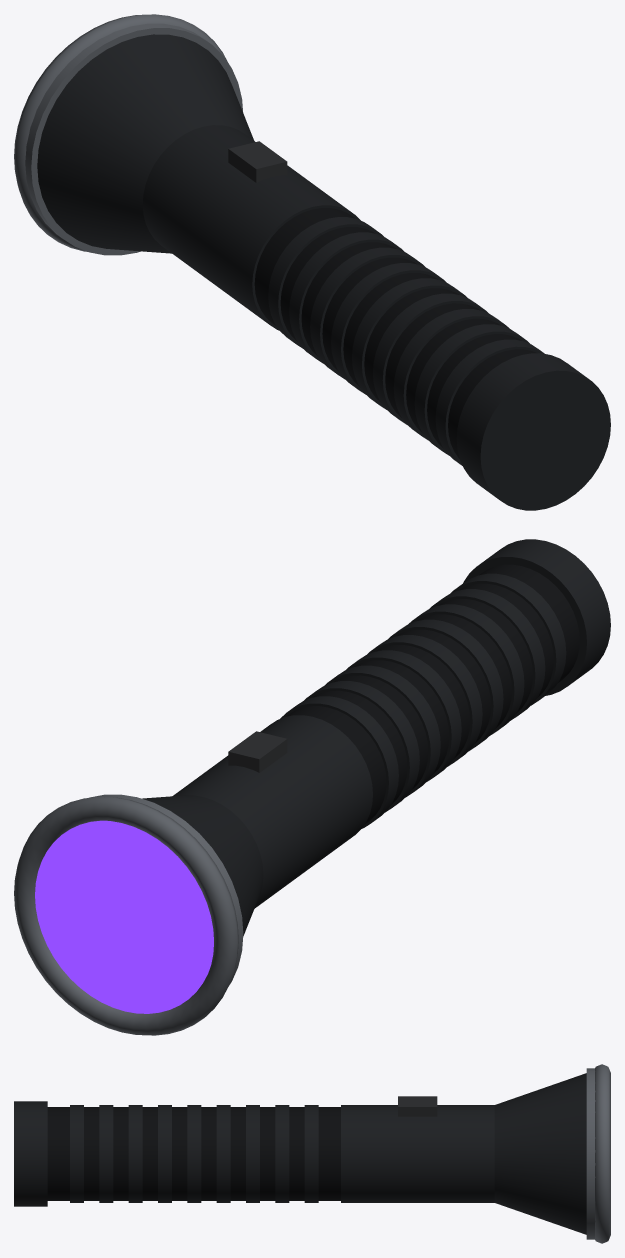
Rendered from flashlight.glb.
The picture shows the model from 3 angles, top to bottom: view 1: azimuth 30°, elevation 25°; view 2: azimuth 150°, elevation 25°; view 3: azimuth 270°, elevation 25°; orthographic projection. The views are drawn at different scales.
Visible parts, largest first — view 1: Flashlight_Head, Flashlight_TailCap, Flashlight_Body, Flashlight_Grip, Flashlight_Bezel, Flashlight_BezelRim, Flashlight_Knurl_6, Flashlight_Knurl_7, Flashlight_Knurl_1, Flashlight_Knurl_3, Flashlight_Knurl_4, Flashlight_Knurl_8 (+4 smaller); view 2: Flashlight_Light_lens, Flashlight_Body, Flashlight_Grip, Flashlight_BezelRim, Flashlight_TailCap, Flashlight_Head, Flashlight_Knurl_8, Flashlight_Knurl_3, Flashlight_Knurl_2, Flashlight_Knurl_5, Flashlight_Knurl_0, Flashlight_Knurl_4 (+5 smaller); view 3: Flashlight_Grip, Flashlight_Body, Flashlight_Head, Flashlight_TailCap, Flashlight_BezelRim, Flashlight_Bezel, Flashlight_Knurl_1, Flashlight_Knurl_2, Flashlight_Knurl_4, Flashlight_Knurl_5, Flashlight_Knurl_7, Flashlight_Knurl_8 (+4 smaller).
Part boxes in pixels (x1,y1,x2,y2): Flashlight_Head: (37,34,254,253); Flashlight_TailCap: (456,353,610,510); Flashlight_Body: (142,125,360,330); Flashlight_Grip: (254,208,537,458); Flashlight_Bezel: (25,23,242,255); Flashlight_BezelRim: (14,14,228,251); Flashlight_Knurl_6: (310,247,425,379); Flashlight_Knurl_7: (289,232,404,363); Flashlight_Knurl_1: (414,324,529,455); Flashlight_Knurl_3: (373,293,488,424); Flashlight_Knurl_4: (352,278,467,409); Flashlight_Knurl_8: (268,217,383,348); Flashlight_Light_lens: (35,820,213,1013); Flashlight_Body: (172,715,372,908); Flashlight_Grip: (286,564,579,824); Flashlight_BezelRim: (14,797,238,1035); Flashlight_TailCap: (463,539,610,695); Flashlight_Head: (142,795,263,935); Flashlight_Knurl_8: (280,696,398,828); Flashlight_Knurl_3: (388,619,503,751); Flashlight_Knurl_2: (409,604,524,735); Flashlight_Knurl_5: (346,650,461,781); Flashlight_Knurl_0: (450,573,566,705); Flashlight_Knurl_4: (367,635,482,766); Flashlight_Grip: (47,1107,340,1200); Flashlight_Body: (341,1105,494,1202); Flashlight_Head: (494,1073,586,1234); Flashlight_TailCap: (14,1101,47,1206); Flashlight_BezelRim: (595,1064,610,1243); Flashlight_Bezel: (586,1068,595,1239); Flashlight_Knurl_1: (99,1105,113,1202); Flashlight_Knurl_2: (128,1105,142,1202); Flashlight_Knurl_4: (187,1105,201,1202); Flashlight_Knurl_5: (216,1105,230,1202); Flashlight_Knurl_7: (275,1105,289,1202); Flashlight_Knurl_8: (304,1105,318,1202).
Bounding box in the file's own units: 0.0644 × 0.0644 × 0.2137.
